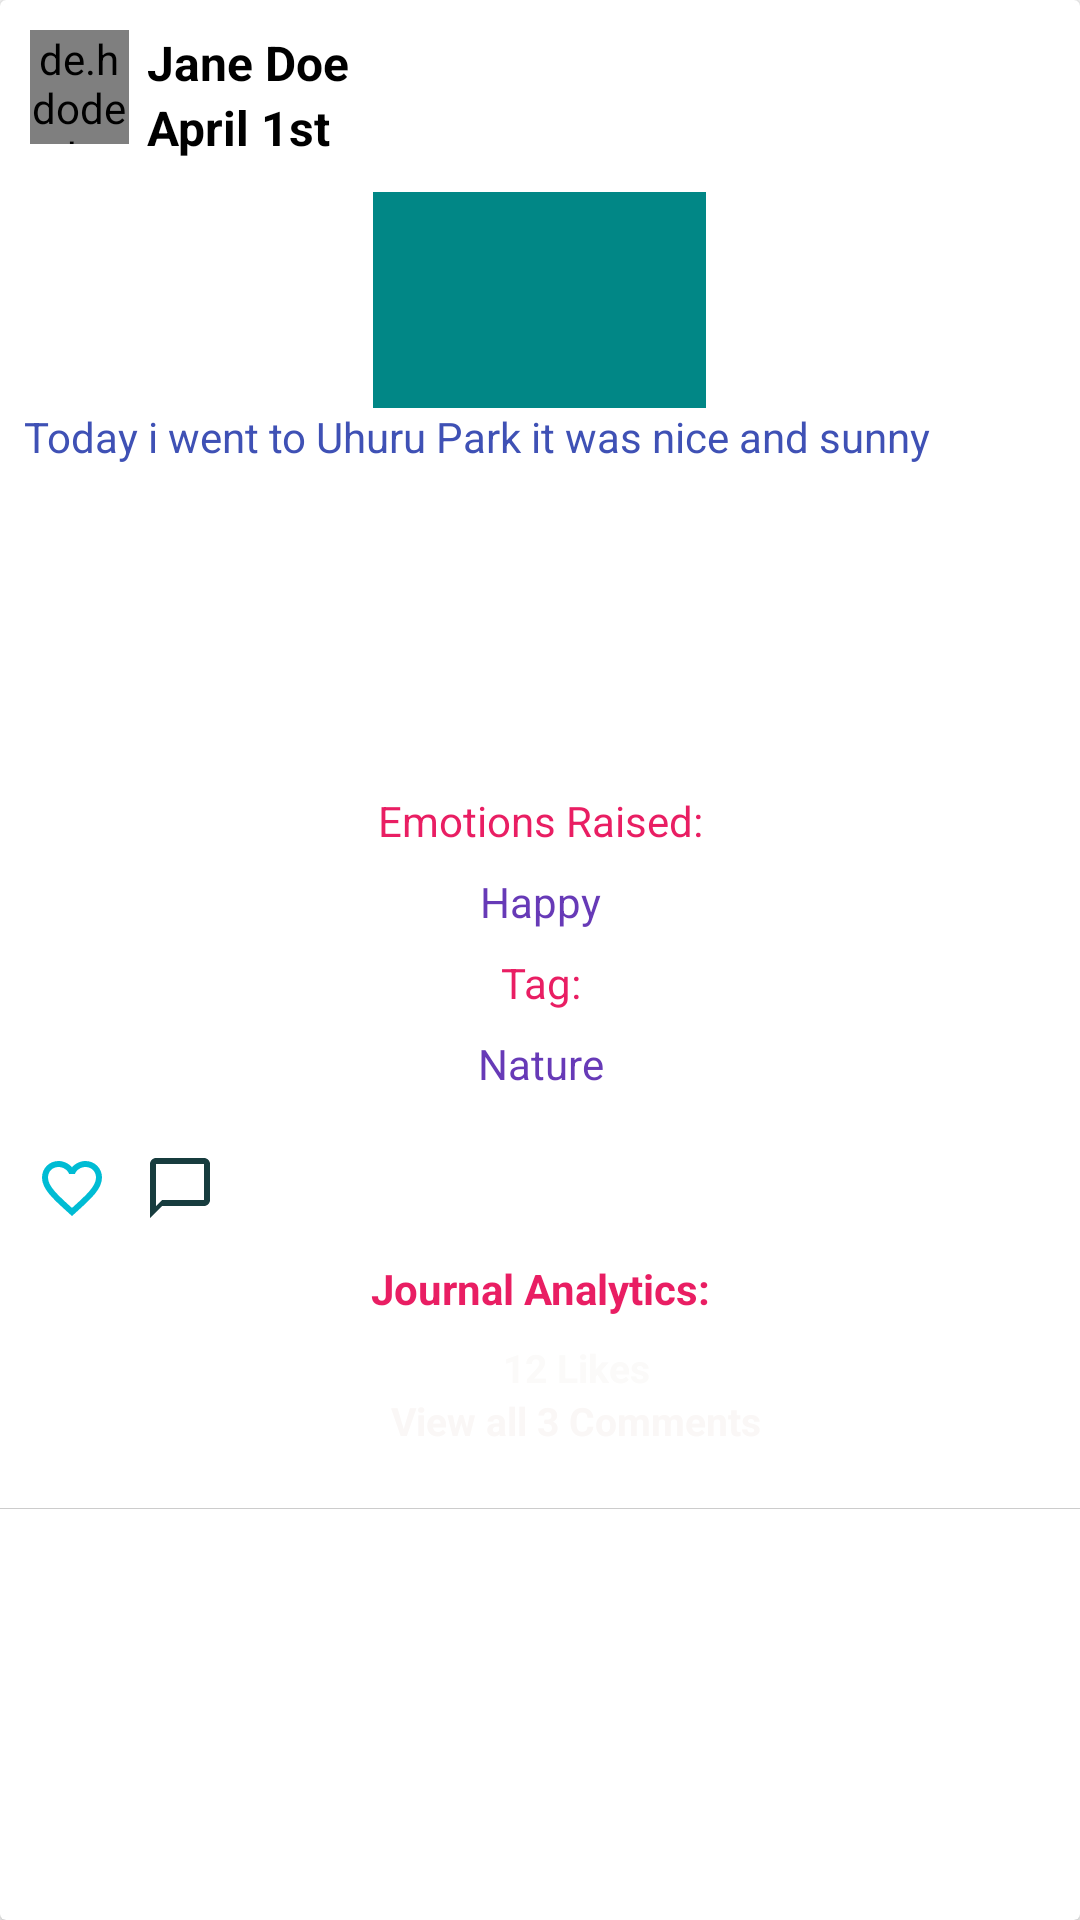

Where icons sit on this 1080*1920 app screen, as (x1, y1, x2, y2):
comment: (150, 1158, 210, 1218)
favorite: (42, 1161, 102, 1216)
